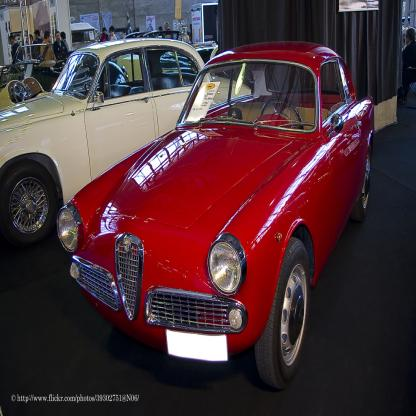Car: (58, 42, 377, 391), (2, 39, 254, 247), (2, 45, 130, 91)
